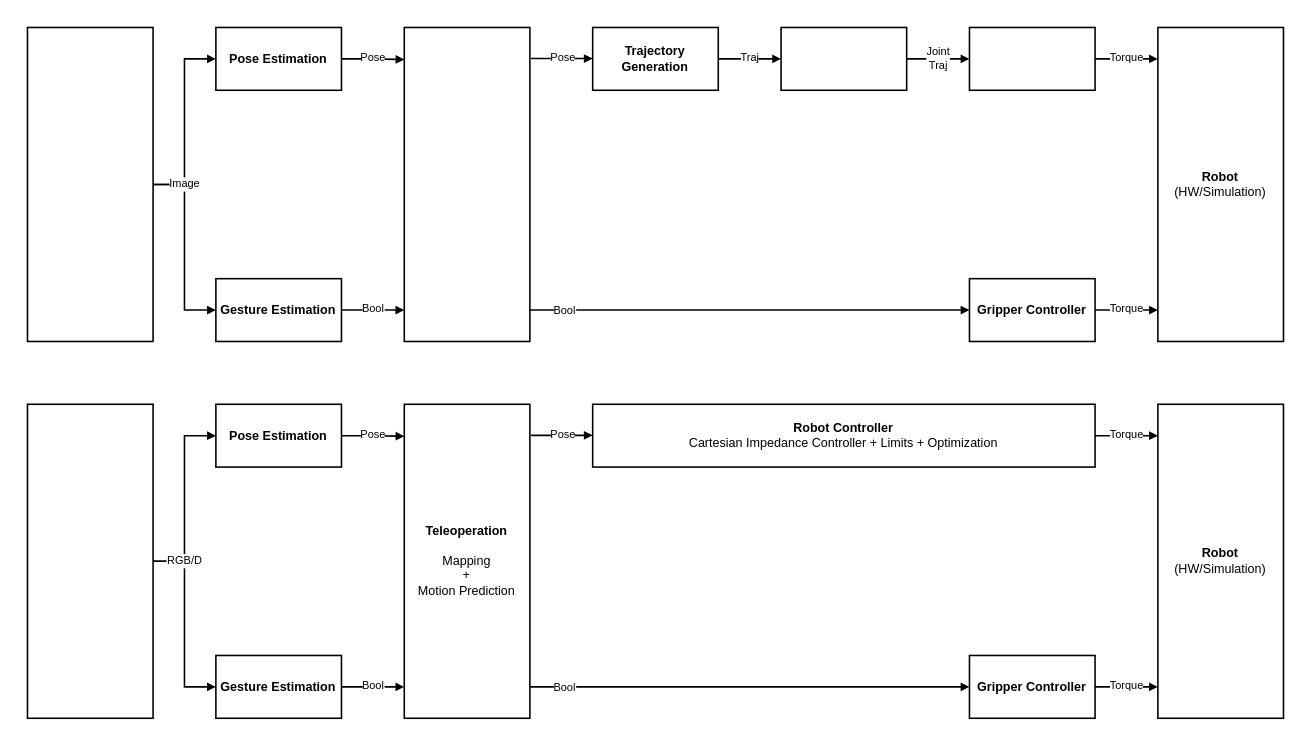
Some shapes in this 1311 by 746 pixel diagram are drawn without their labels. The shapes that lost their labels are listed below. From the top down, each one's centre as x and y in pixels, then its label:
At (843,58): "Optimization".
At (1031,58): "Robot Controller".
At (89,183): "Camera".
At (466,183): "System (Mapping)".
At (89,560): "Kinect Sensor openni_kinect".
